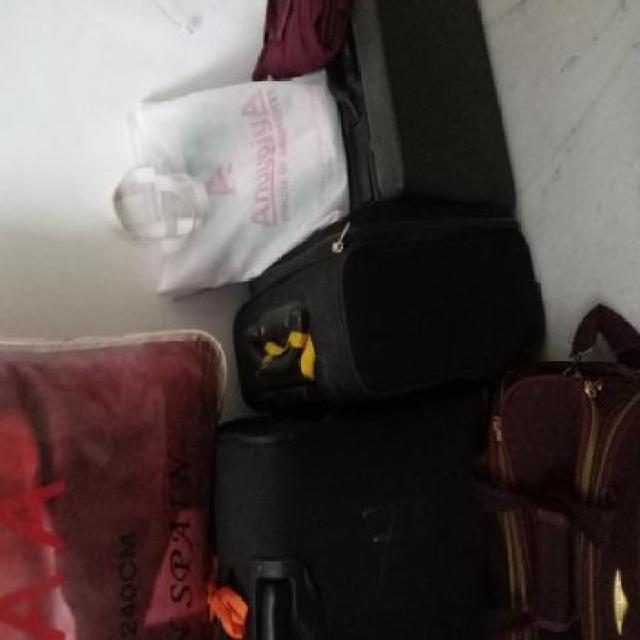backpack: (480, 355, 640, 640)
